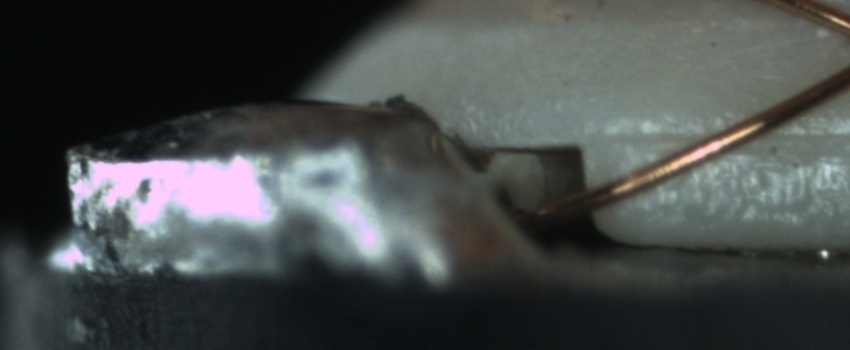DL: (619, 109, 849, 165)
